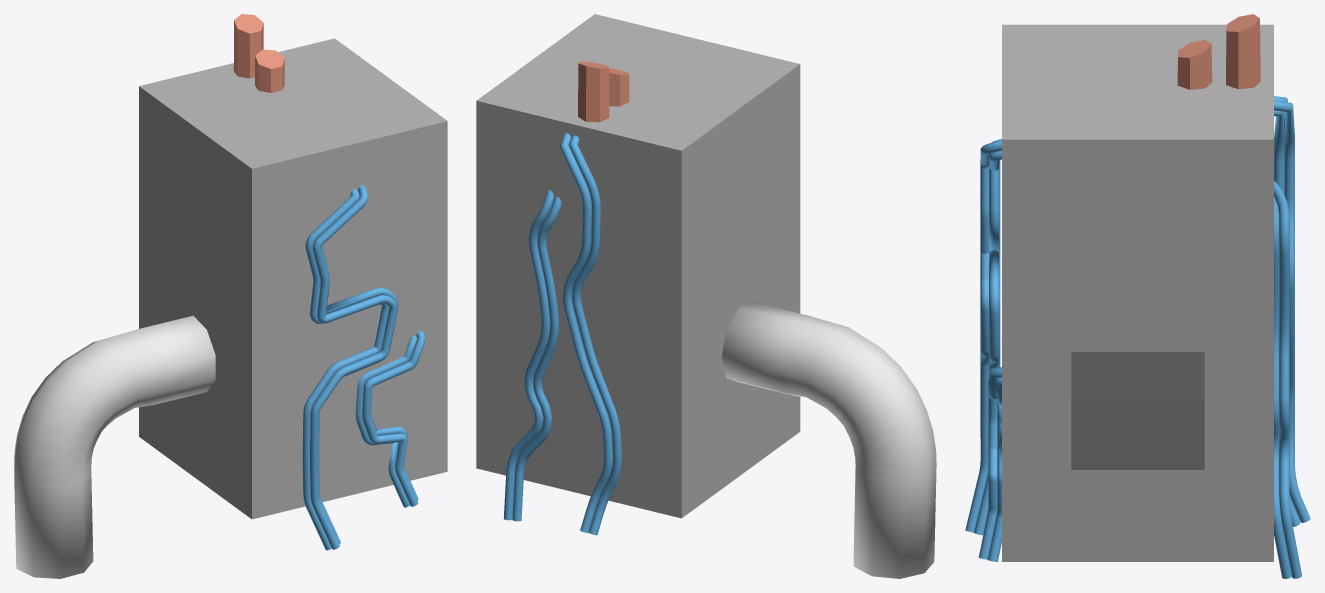
File: droneprod.fbx
The picture shows the model from 3 angles, left to right: view 1: azimuth 30°, elevation 25°; view 2: azimuth 150°, elevation 25°; view 3: azimuth 270°, elevation 25°; orthographic projection. The views are drawn at different scales.
Visible parts, largest first — view 1: Cube.008, Cylinder.010, Plane.016, Cylinder.008; view 2: Cube.008, Cylinder.010, Plane.016, Cylinder.008; view 3: Cube.008, Plane.016, Cylinder.008.
Part boxes in pixels (x1,y1,x2,y2): Cube.008: (139,38,447,519); Cylinder.010: (14,315,215,578); Plane.016: (302,185,425,550); Cylinder.008: (233,14,284,92); Cube.008: (476,14,800,518); Cylinder.010: (721,302,936,578); Plane.016: (503,133,621,535); Cylinder.008: (578,61,629,122); Cube.008: (1002,24,1273,561); Plane.016: (965,96,1310,578); Cylinder.008: (1177,14,1260,89).
Bounding box in the file's own units: 2819 × 3248 × 1867.
